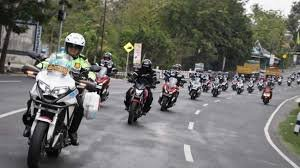motor: (23, 67, 90, 168), (126, 81, 152, 127), (161, 74, 181, 112), (187, 77, 203, 102), (260, 85, 273, 108)
